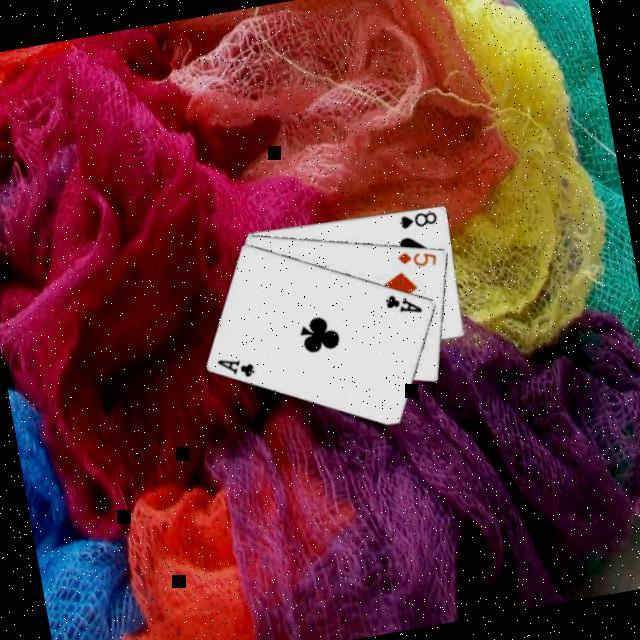5D: (392, 243, 439, 273)
8S: (394, 205, 440, 232)
AC: (380, 286, 424, 321), (214, 349, 258, 384)
